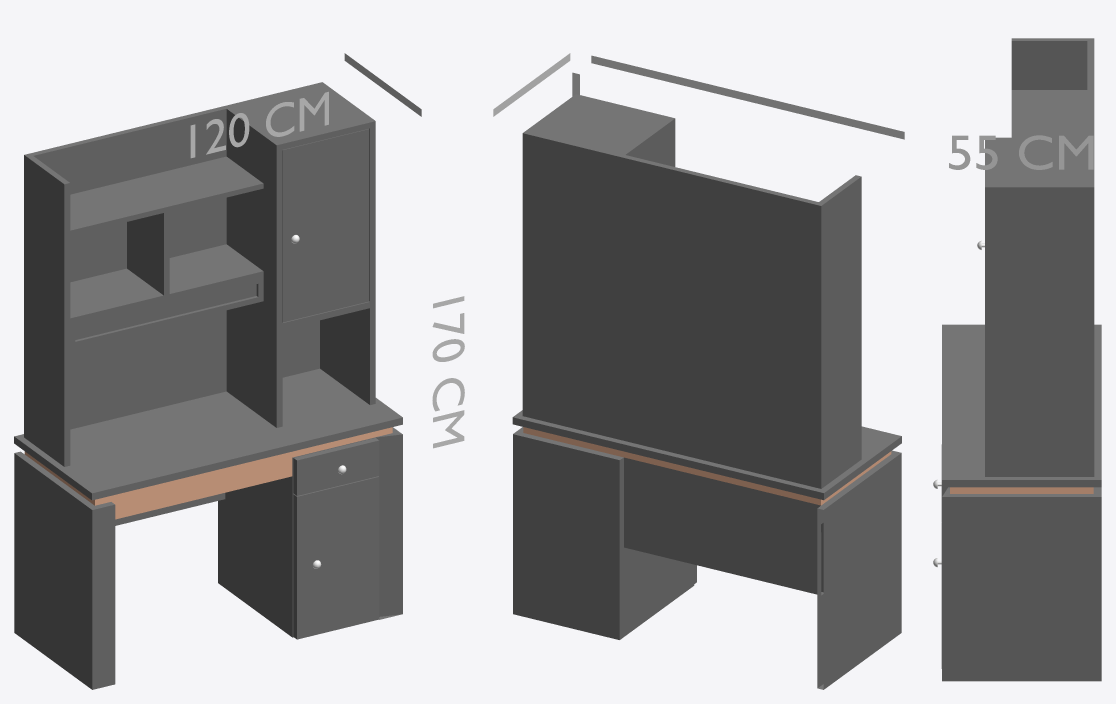
File: Meja_Belajar_lia.glb
The picture shows the model from 3 angles, left to right: view 1: azimuth 30°, elevation 25°; view 2: azimuth 150°, elevation 25°; view 3: azimuth 270°, elevation 25°; orthographic projection. The views are drawn at different scales.
Visible parts, largest first — view 1: Cube, Text, Text.001; view 2: Cube, Plane, Plane.002; view 3: Cube, Text.002.
Part boxes in pixels (x1,y1,x2,y2): Cube: (14, 82, 402, 689); Text: (190, 91, 328, 158); Text.001: (432, 296, 464, 448); Cube: (512, 94, 901, 689); Plane: (591, 55, 904, 139); Plane.002: (493, 53, 570, 116); Cube: (941, 38, 1101, 681); Text.002: (949, 135, 1093, 169).
Size of the model in its own units: 8.06 by 11.2 by 3.08.
